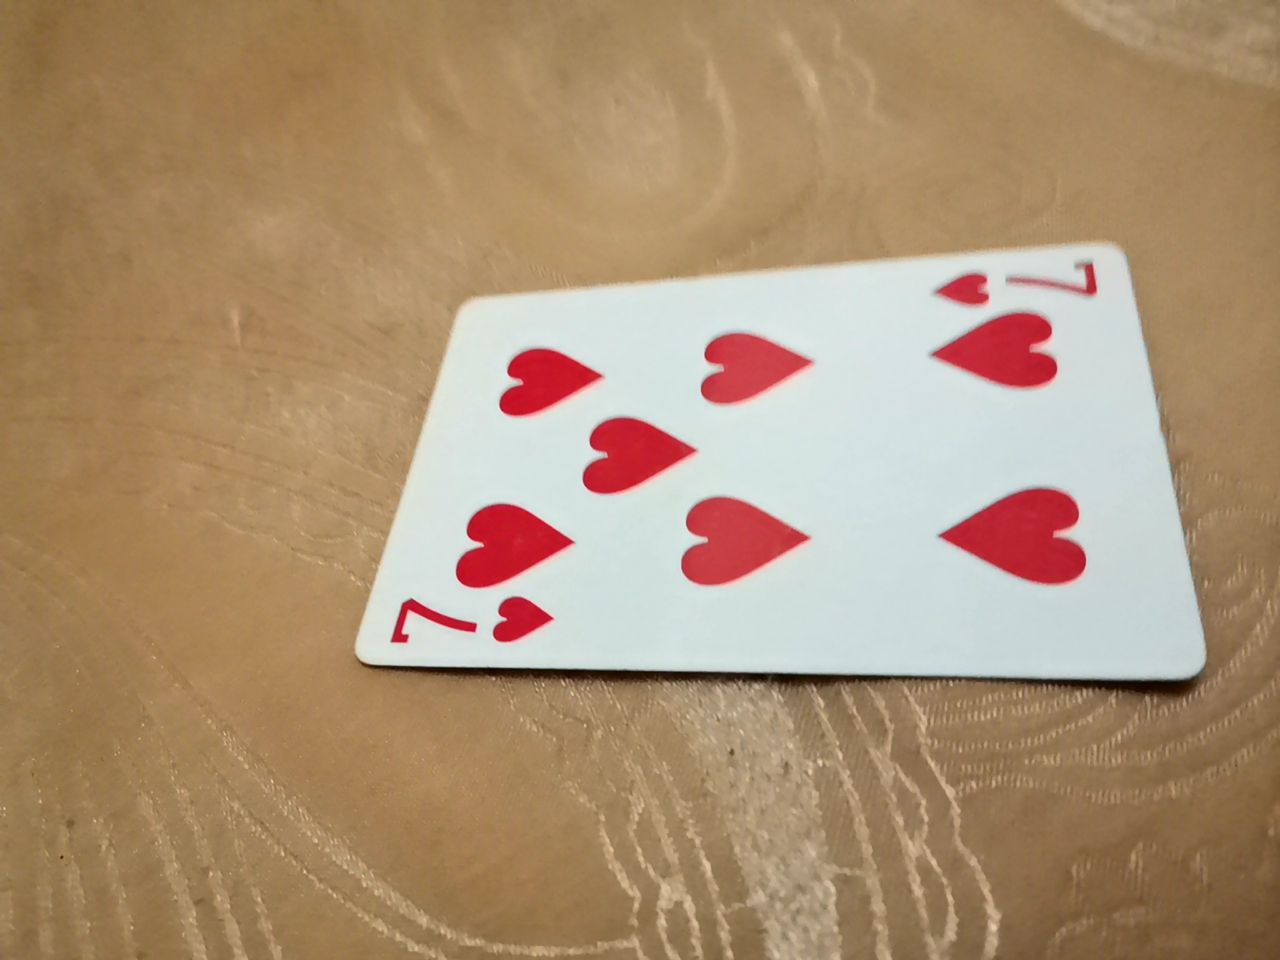hx 7: (355, 403, 1176, 797)
